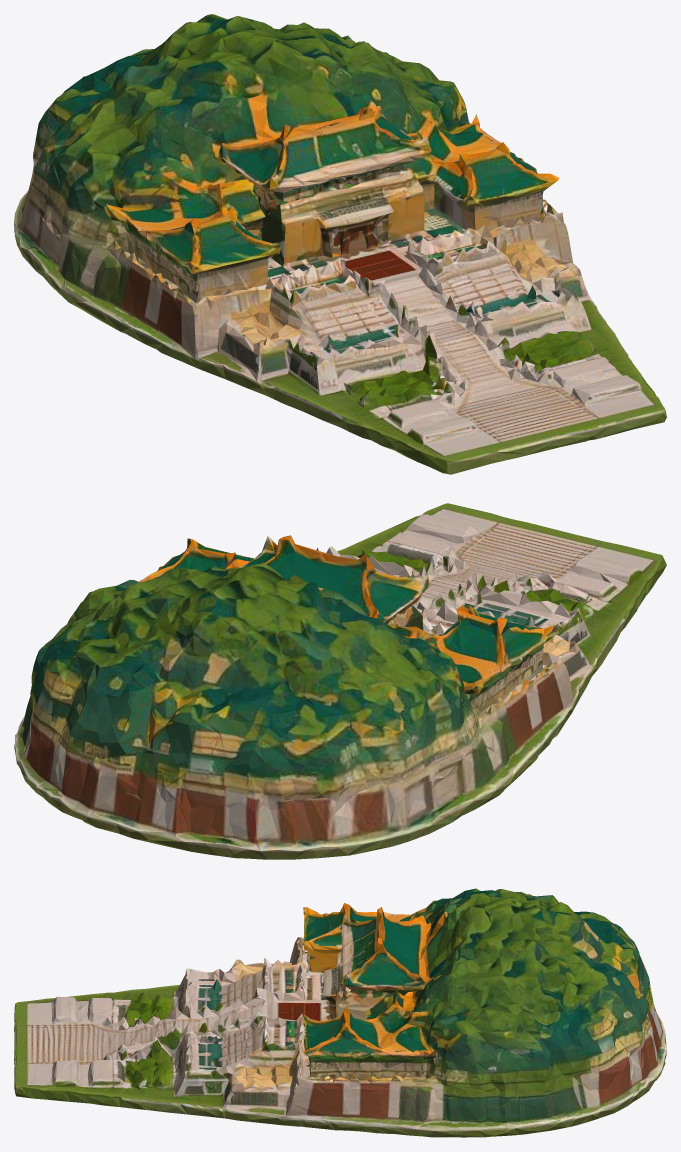
Rendered from national-palace-museum.glb.
3 renders of one model, top to bottom at view 1: azimuth 30°, elevation 25°; view 2: azimuth 150°, elevation 25°; view 3: azimuth 270°, elevation 25°, orthographic. The views are drawn at different scales.
Visible parts, largest first — view 1: logan-textured.obj; view 2: logan-textured.obj; view 3: logan-textured.obj.
Boxes of the visible parts, box(x1,y1,x2,y2) form: logan-textured.obj: box(14, 14, 666, 474); logan-textured.obj: box(14, 503, 666, 859); logan-textured.obj: box(14, 888, 666, 1137).
Size of the model in its own units: 0.6113 by 0.2569 by 1.
Materials: 1 (1 with a texture image).
